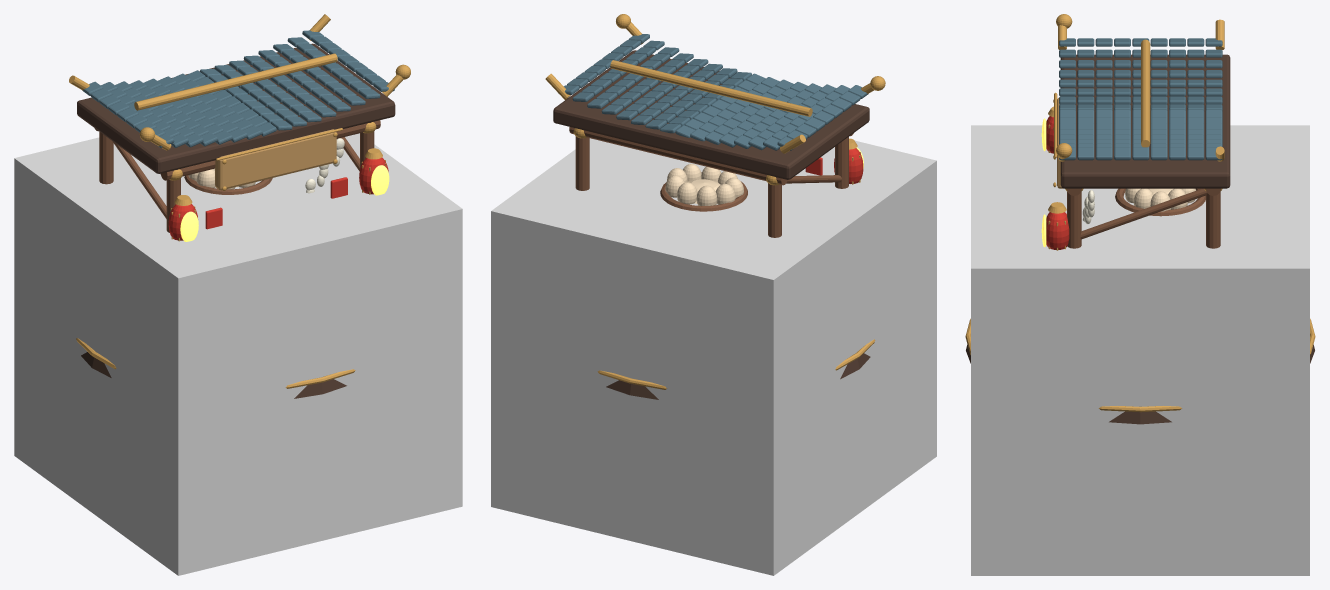
The model's file is flagship-02-dumpling.glb.
The picture shows the model from 3 angles, left to right: view 1: azimuth 30°, elevation 25°; view 2: azimuth 150°, elevation 25°; view 3: azimuth 270°, elevation 25°; orthographic projection. The views are drawn at different scales.
Visible parts, largest first — view 1: Cube, individual curved glazed roof tile, circular bronze collector base, machined brass edge, central shop sign, aged vertical timber column, ribbed lantern core, warm lantern glow; view 2: Cube, individual curved glazed roof tile, circular bronze collector base, aged vertical timber column, machined brass edge, embroidered linen front, ribbed lantern core; view 3: Cube, individual curved glazed roof tile, circular bronze collector base, aged vertical timber column, machined brass edge, ribbed lantern core, embroidered linen front.
Part boxes in pixels (x1,y1,x2,y2): Cube: [14, 133, 462, 575]; individual curved glazed roof tile: [82, 30, 394, 147]; circular bronze collector base: [77, 43, 395, 398]; machined brass edge: [69, 14, 410, 388]; central shop sign: [215, 129, 336, 190]; aged vertical timber column: [94, 120, 380, 232]; ribbed lantern core: [168, 157, 388, 240]; warm lantern glow: [180, 165, 389, 241]; Cube: [491, 138, 936, 575]; individual curved glazed roof tile: [558, 34, 868, 150]; circular bronze collector base: [553, 50, 870, 399]; aged vertical timber column: [569, 127, 853, 237]; machined brass edge: [545, 14, 885, 389]; embroidered linen front: [665, 163, 743, 205]; ribbed lantern core: [805, 148, 863, 183]; Cube: [971, 125, 1309, 575]; individual curved glazed roof tile: [1059, 38, 1222, 160]; circular bronze collector base: [966, 54, 1314, 424]; aged vertical timber column: [1066, 188, 1220, 248]; machined brass edge: [965, 14, 1315, 412]; ribbed lantern core: [1046, 116, 1069, 249]; embroidered linen front: [1125, 188, 1195, 211].
Size of the model in its own units: 2.06 by 2.76 by 2.06.
